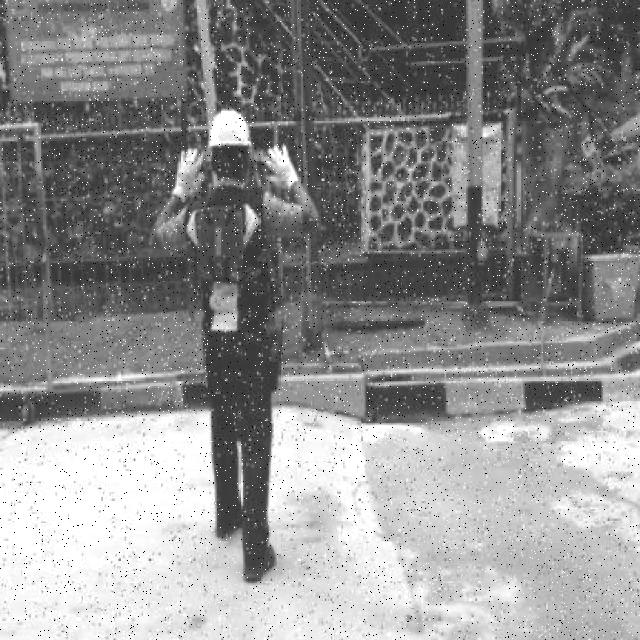Boots: (240, 538, 278, 586), (213, 502, 244, 540)
Gloves: (170, 143, 207, 202), (261, 144, 301, 192)
Helmet: (208, 105, 252, 150)
Mask: (193, 203, 252, 277)
